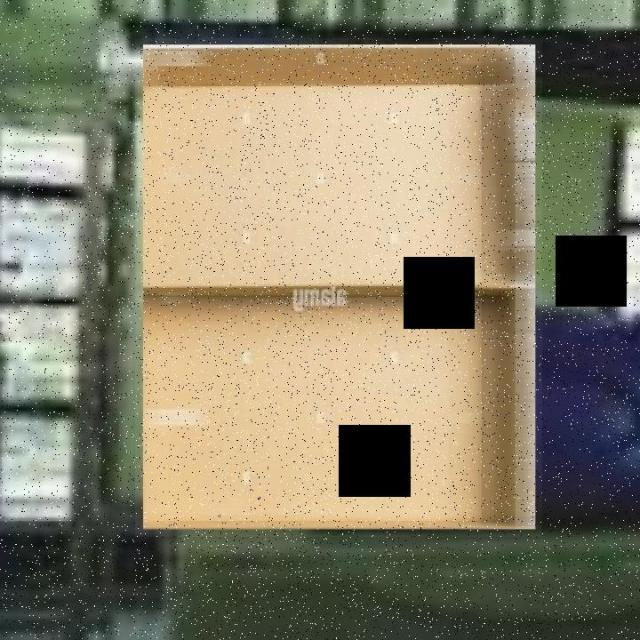box: (135, 38, 542, 537)
